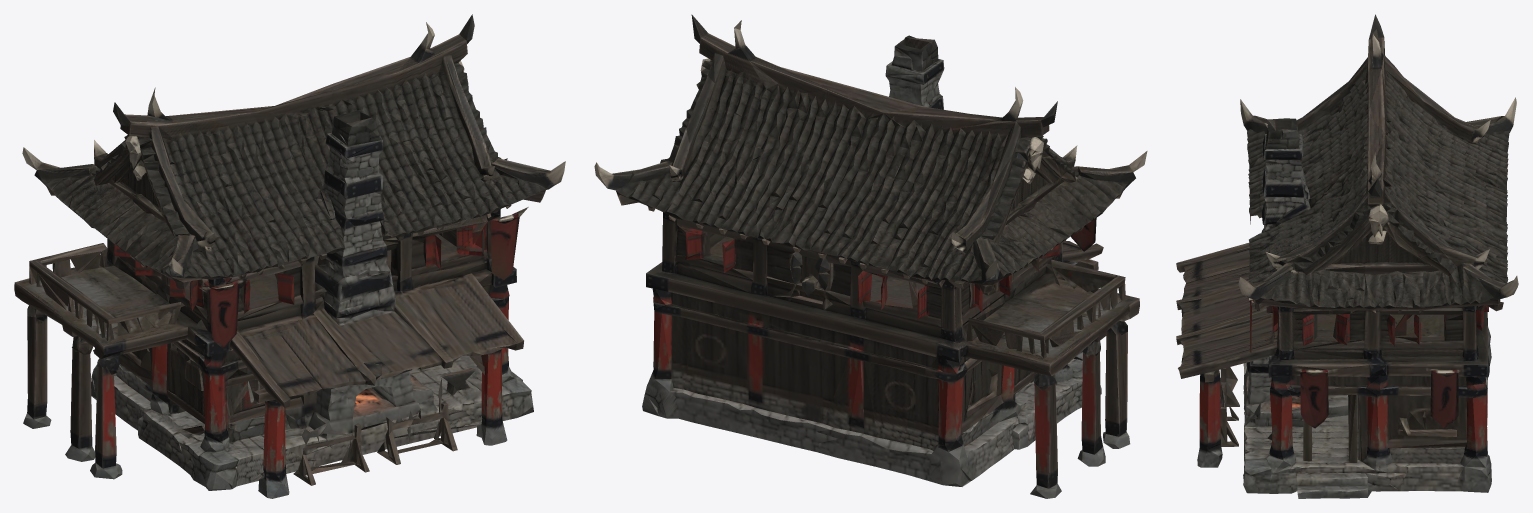
File: house_shop_c.glb
3 renders of one model, left to right at view 1: azimuth 30°, elevation 25°; view 2: azimuth 150°, elevation 25°; view 3: azimuth 270°, elevation 25°, orthographic. The views are drawn at different scales.
Visible parts, largest first — view 1: house_shop_c; view 2: house_shop_c; view 3: house_shop_c.
Part boxes in pixels (<box>): house_shop_c: <box>14,14,565,498</box>; house_shop_c: <box>594,14,1147,498</box>; house_shop_c: <box>1176,14,1518,498</box>.
Bounding box in the file's own units: 11.48 × 9 × 8.59.
Materials: 1 (1 with a texture image).
